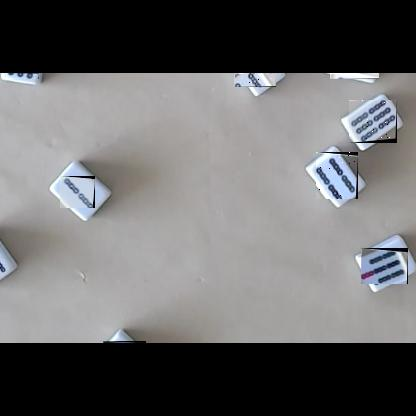2s: (60, 176, 95, 208)
4s: (316, 152, 358, 199), (234, 73, 276, 87)
5s: (103, 341, 146, 343)
6s: (349, 100, 397, 143), (6, 73, 39, 79)
7s: (361, 248, 408, 284)
8s: (330, 73, 379, 79)
